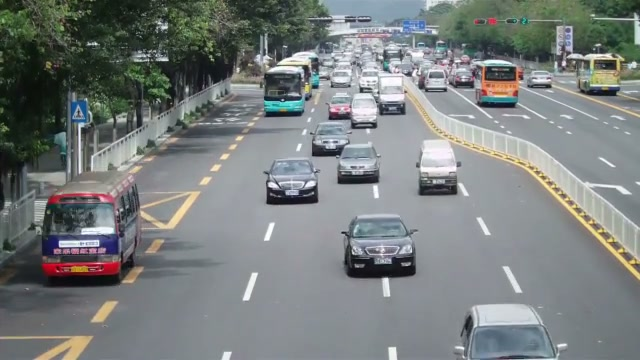bus: (40, 169, 142, 284), (262, 65, 306, 116), (474, 59, 520, 107), (576, 53, 622, 95)
car: (453, 303, 567, 359), (340, 213, 419, 277), (261, 157, 320, 204), (415, 138, 460, 195), (336, 142, 381, 184), (311, 121, 351, 156), (350, 93, 379, 129), (327, 93, 353, 119), (451, 68, 474, 87), (527, 71, 552, 88)
truck: (375, 73, 406, 115)
